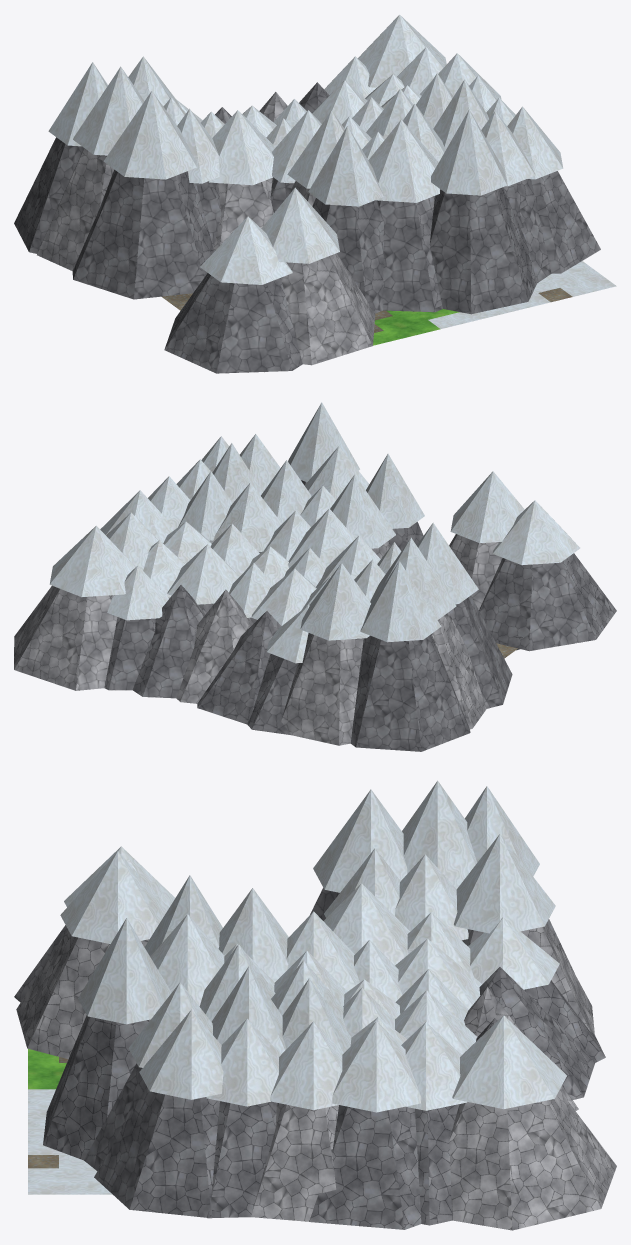
The model's file is chunk_10_0.glb.
The picture shows the model from 3 angles, top to bottom: view 1: azimuth 30°, elevation 25°; view 2: azimuth 150°, elevation 25°; view 3: azimuth 270°, elevation 25°; orthographic projection. The views are drawn at different scales.
Visible parts, largest first — view 1: chunk_10_0; view 2: chunk_10_0; view 3: chunk_10_0.
Boxes of the visible parts, bbox=[...] form: chunk_10_0: bbox=[14, 14, 616, 373]; chunk_10_0: bbox=[14, 402, 616, 751]; chunk_10_0: bbox=[14, 780, 616, 1230].
Size of the model in its own units: 21.18 by 8.15 by 19.36.
Materials: 6 (6 with a texture image).
